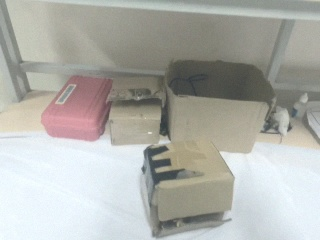box: (165, 60, 276, 152), (141, 141, 234, 237), (37, 73, 108, 148), (103, 69, 165, 150)
